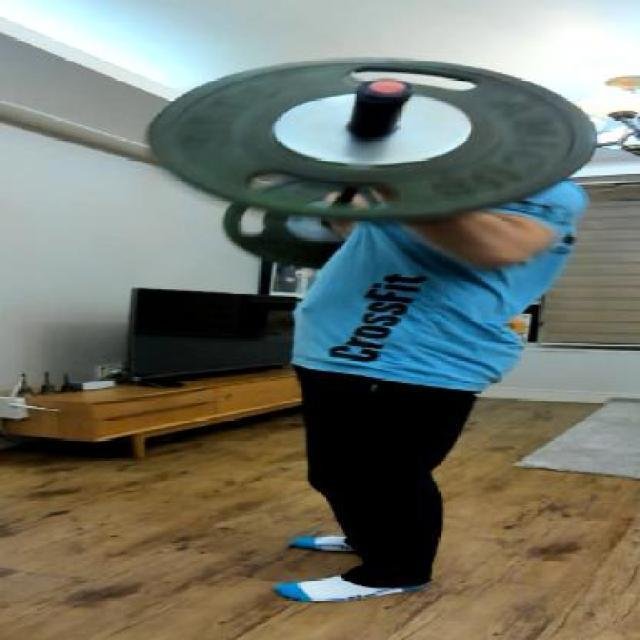barbell: (122, 48, 636, 225)
